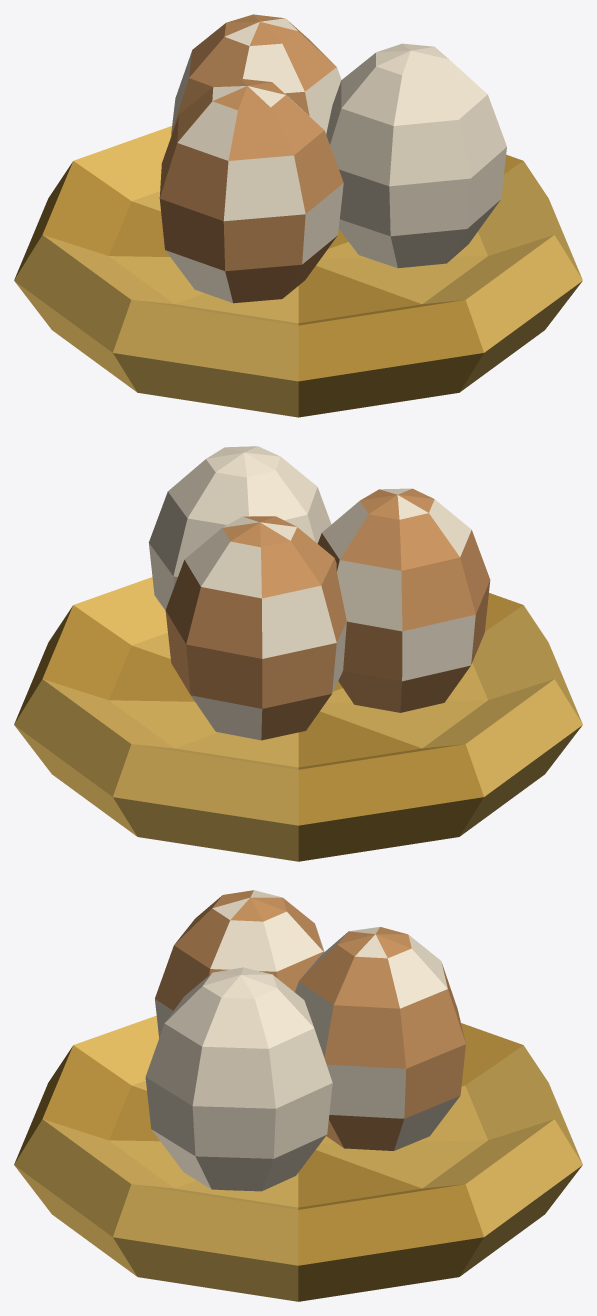
Rendered from hen-egg.glb.
3 views of the same model, one above another, from view 1: azimuth 30°, elevation 25°; view 2: azimuth 150°, elevation 25°; view 3: azimuth 270°, elevation 25° (orthographic).
Parts seen in each view (by area): view 1: hen-egg; view 2: hen-egg; view 3: hen-egg.
Boxes of the visible parts, x1,y1,x2,y2 form: hen-egg: [14, 14, 582, 417]; hen-egg: [14, 446, 582, 861]; hen-egg: [14, 890, 582, 1301].
Bounding box in the file's own units: 0.291 × 0.15 × 0.2954.
1 material, 1 textured.
